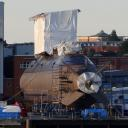submarine: (14, 11, 113, 105)
